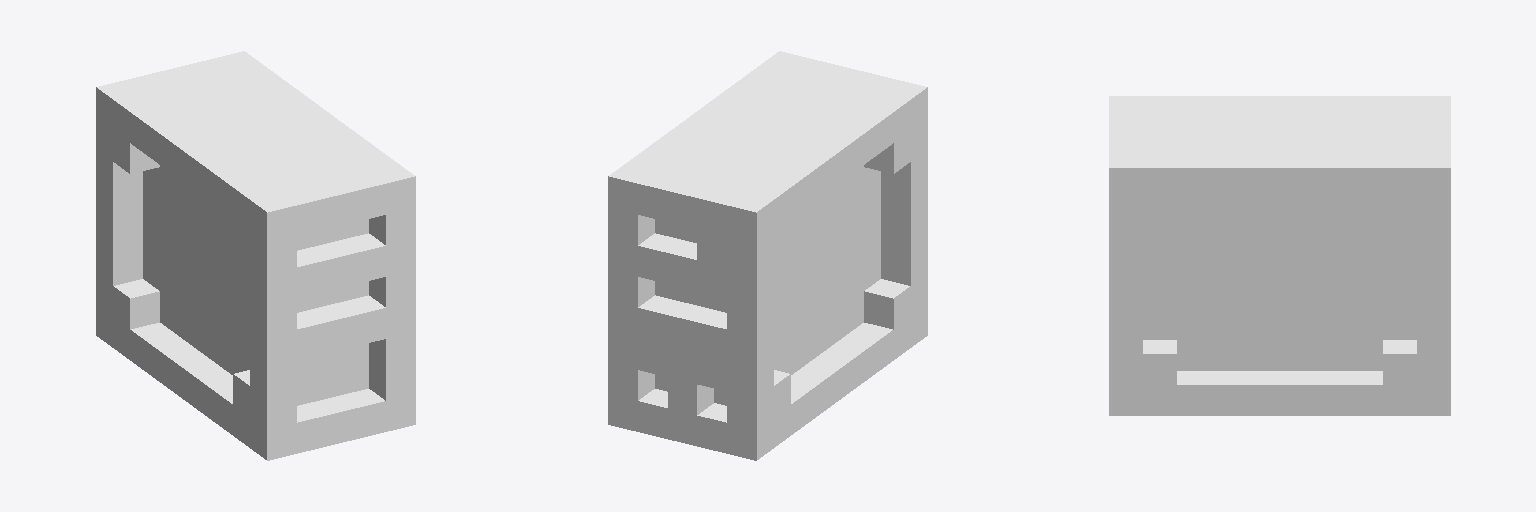
Rendered from Decor-13.obj.
The picture shows the model from 3 angles: view 1: azimuth 30°, elevation 25°; view 2: azimuth 150°, elevation 25°; view 3: azimuth 270°, elevation 25°; orthographic projection.
Parts seen in each view (by area): view 1: object 1; view 2: object 1; view 3: object 1.
Part boxes in pixels (x1,y1,x2,y2): object 1: (96, 51, 415, 460); object 1: (608, 51, 927, 460); object 1: (1109, 96, 1450, 415).
Bounding box in the file's own units: 0.5 × 0.8 × 1.